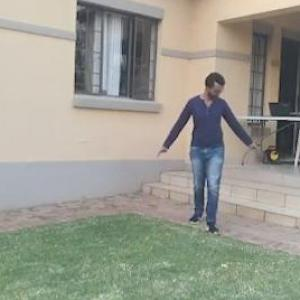land: (154, 68, 258, 242)
